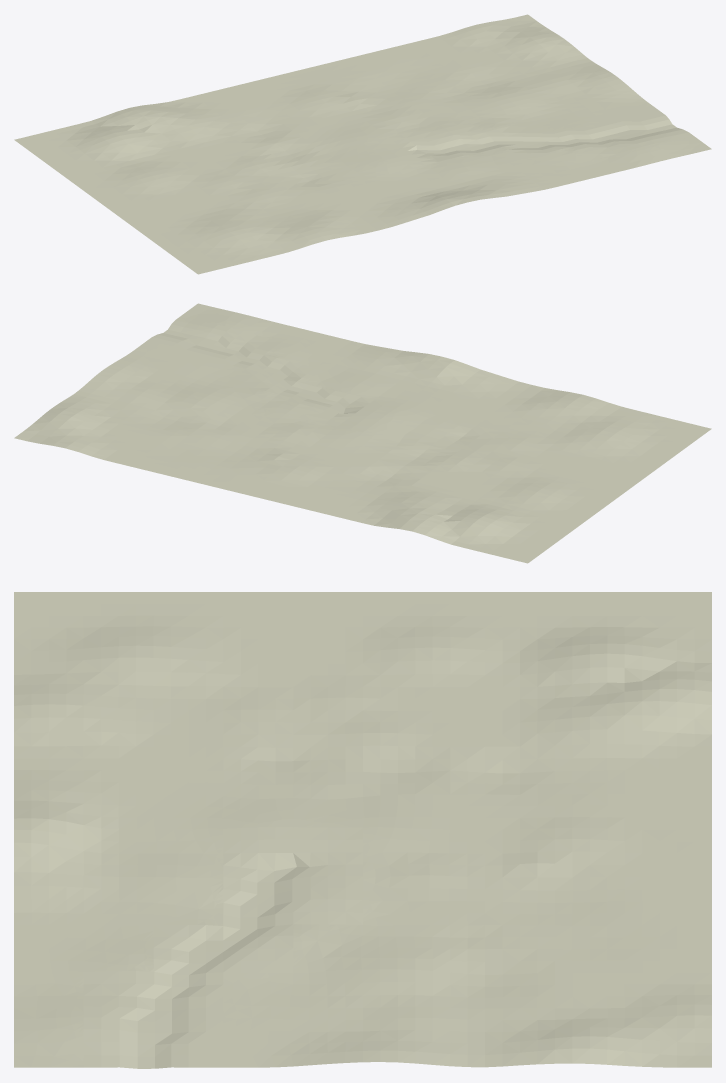
Rendered from _errain.fbx.
3 renders of one model, top to bottom at view 1: azimuth 30°, elevation 25°; view 2: azimuth 150°, elevation 25°; view 3: azimuth 270°, elevation 25°, orthographic. The views are drawn at different scales.
Visible parts, largest first — view 1: polySurface56; view 2: polySurface56; view 3: polySurface56.
Boxes of the visible parts, left/top/right/bottom form: polySurface56: left=14, top=14, right=711, bottom=274; polySurface56: left=14, top=303, right=711, bottom=563; polySurface56: left=14, top=592, right=711, bottom=1068.
Bounding box in the file's own units: 16637 × 254 × 10320.
